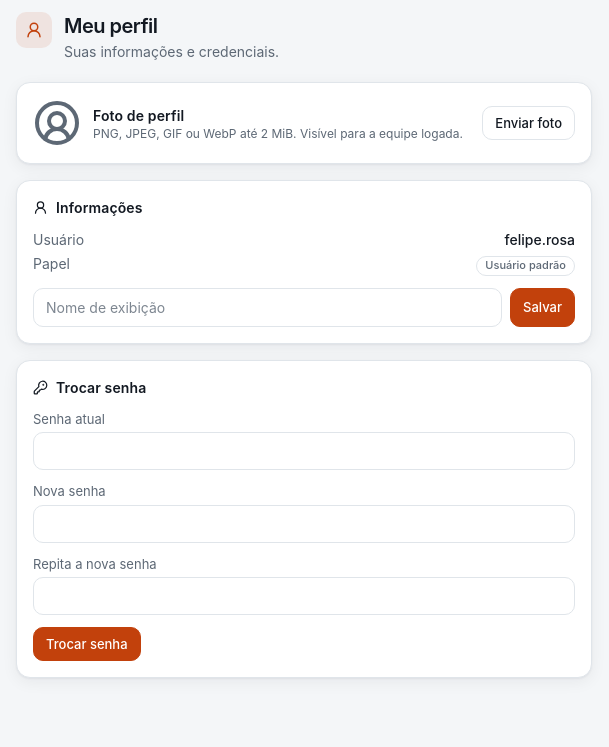
Scenario: ProfilePage › troca de senha valida confirmação e mínimo localmente
Expected: the text "felipe.rosa" is shown, [505,230,575,250]
Step 1. Type "atual-123" into the password field labelled "Senha atual" → (304, 451), box [33,432,575,470]
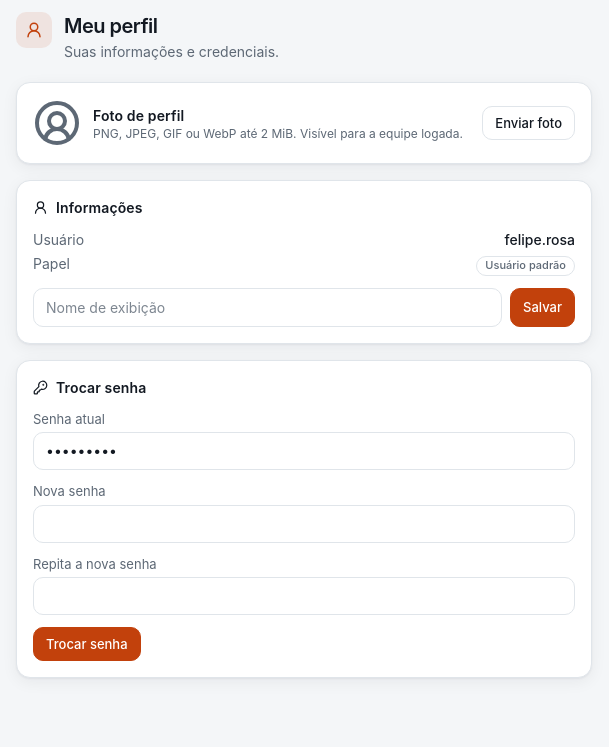
Step 2. Type "nova-123" into the password field labelled "Nova senha" → (304, 524), box [33,505,575,543]
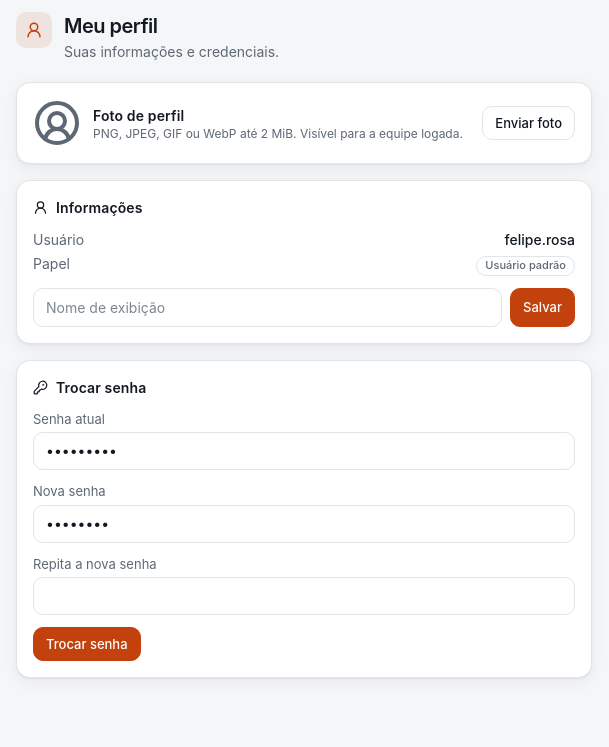
Step 3. Type "outra-456" into the password field labelled "Repita a nova senha" → (304, 596), box [33,577,575,615]
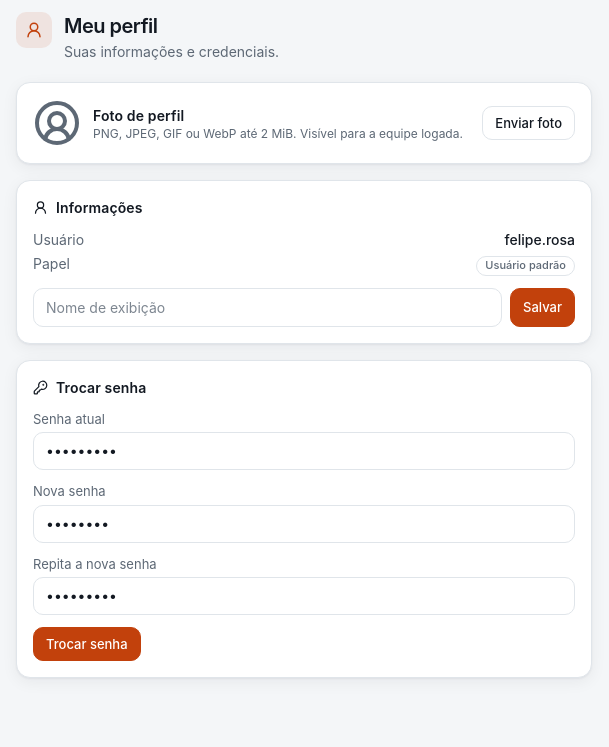
Step 4. Click the button "Trocar senha" → (87, 644), box [33,627,141,661]
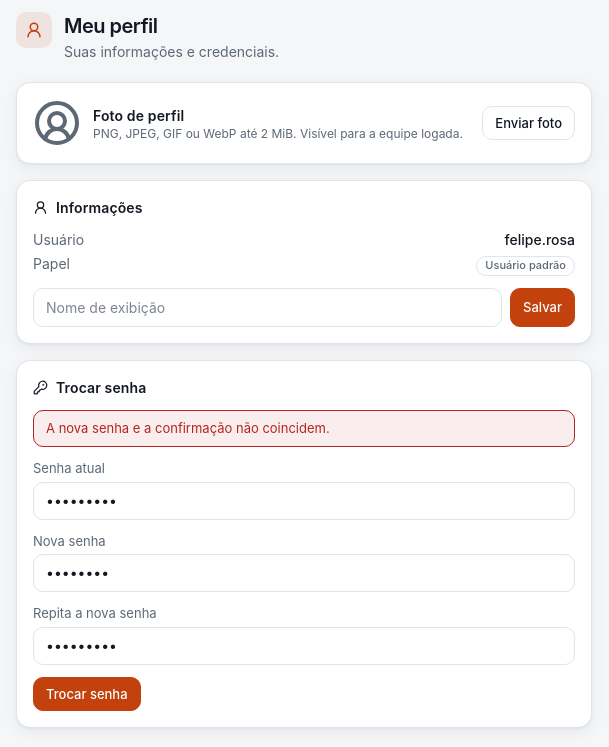
Expected: the text "A nova senha e a confirmação não coincidem." is shown, [33,410,575,447]
